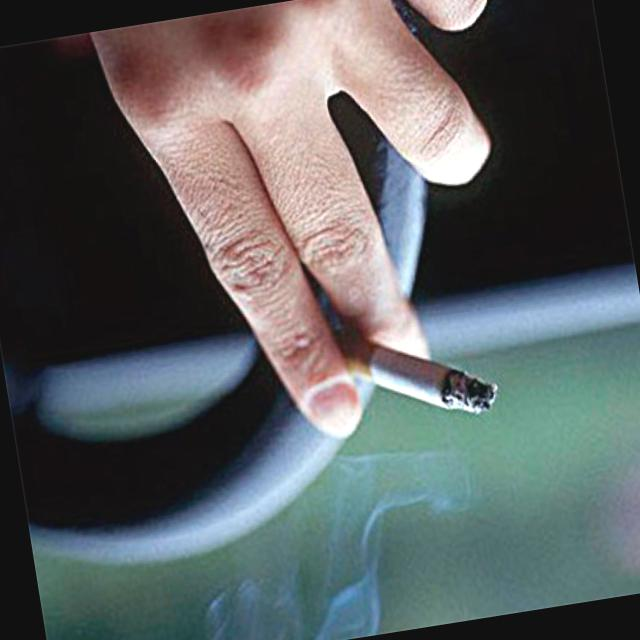cigarette: (352, 326, 508, 438)
